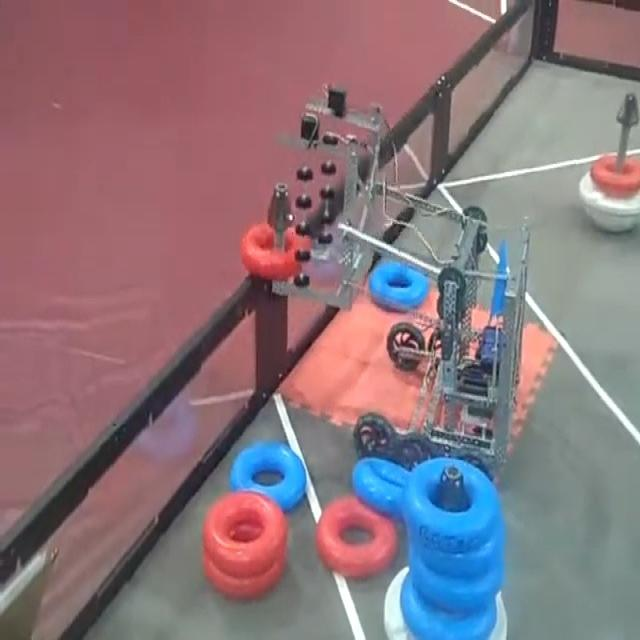Blue-Ring: (404, 457, 504, 553), (400, 574, 495, 640), (230, 442, 306, 510), (410, 558, 504, 612), (410, 528, 505, 581), (352, 457, 409, 518), (369, 262, 427, 311)
Red-Ring: (205, 492, 288, 576), (316, 495, 398, 578), (241, 223, 311, 279), (204, 554, 285, 598), (590, 155, 640, 198)
